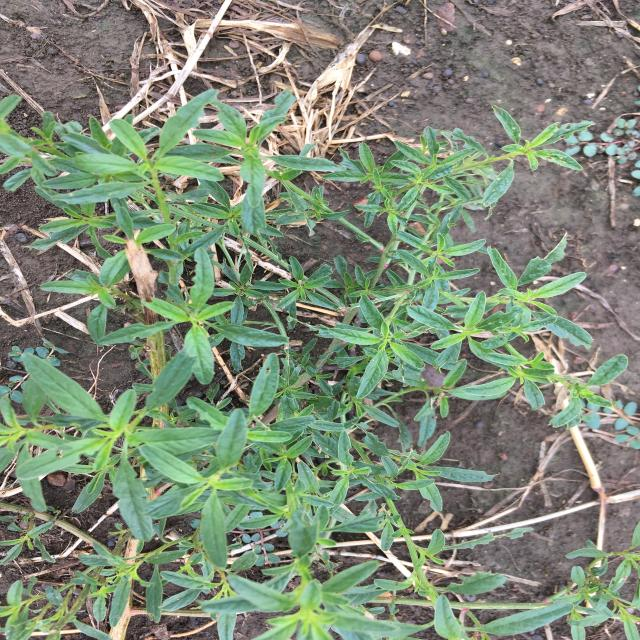SpottedSpurge: (564, 118, 640, 197), (0, 337, 70, 403), (231, 511, 288, 566), (580, 398, 639, 449)
Waterhemp: (1, 89, 640, 640)
